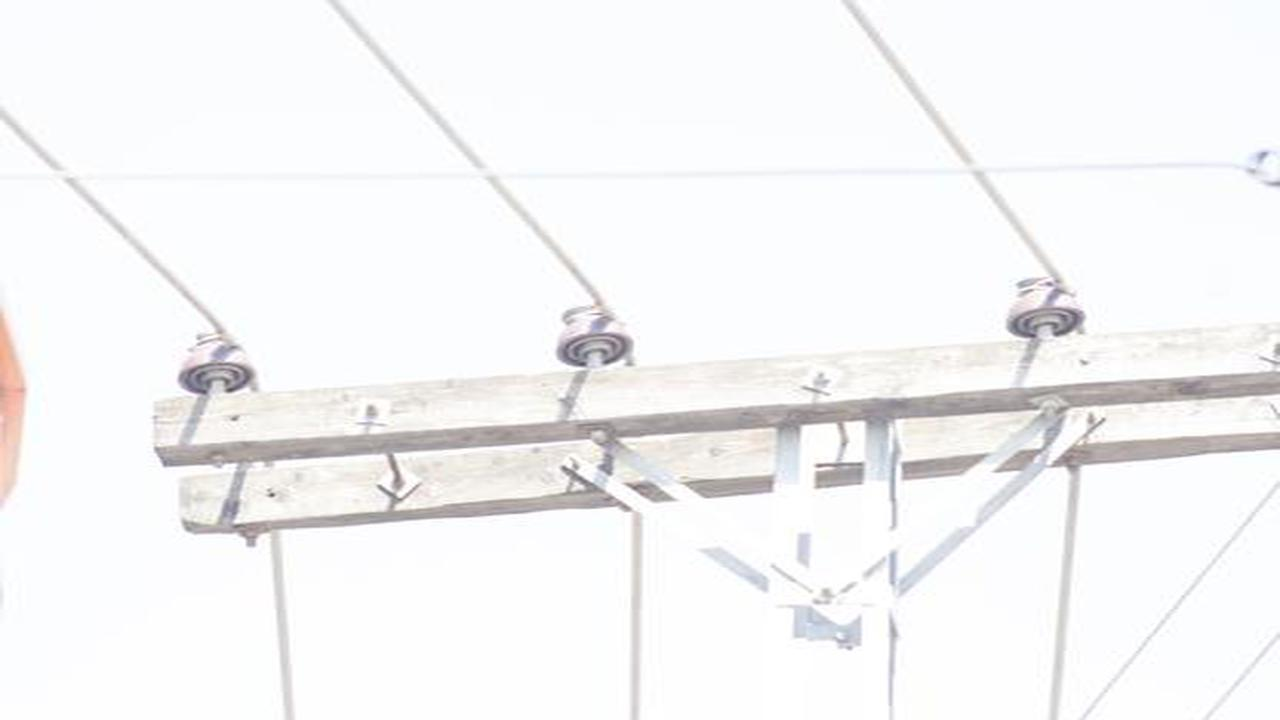insulator_pin: (173, 323, 256, 392), (550, 303, 637, 367), (1000, 274, 1082, 341)
